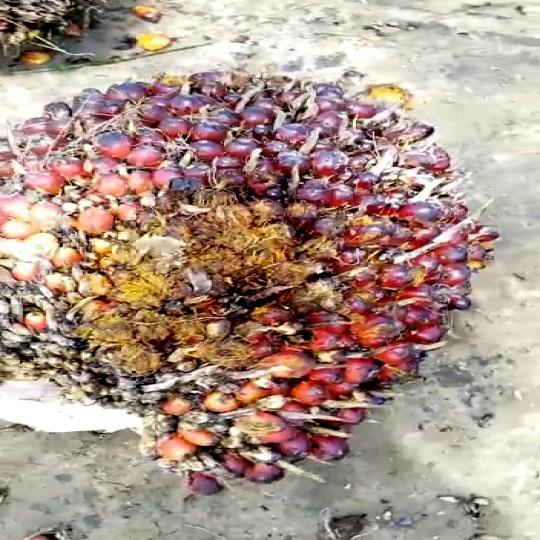masak: (0, 54, 540, 488)
